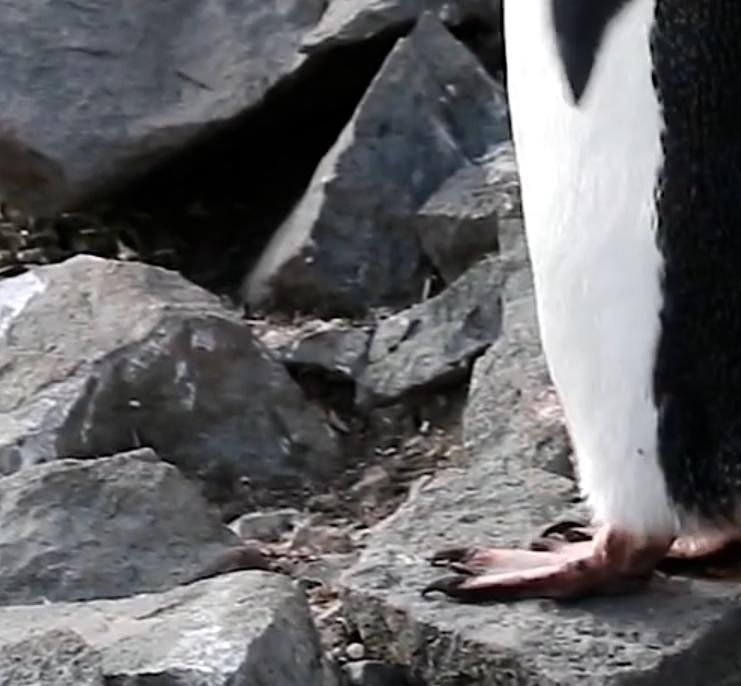Chinstrap Penguin: (261, 0, 741, 588)
